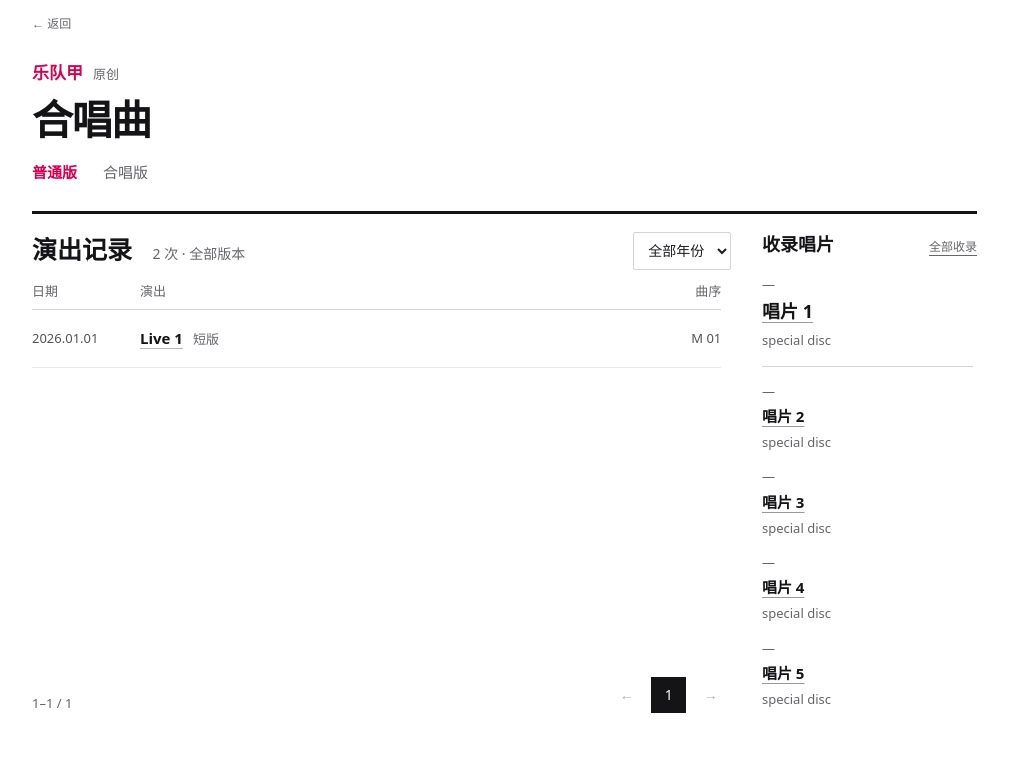
Test case: all releases dialog opens the selected album
The image size is (1024, 768).
Click the button "全部收录" at (953, 247), box [929,234,977,260]
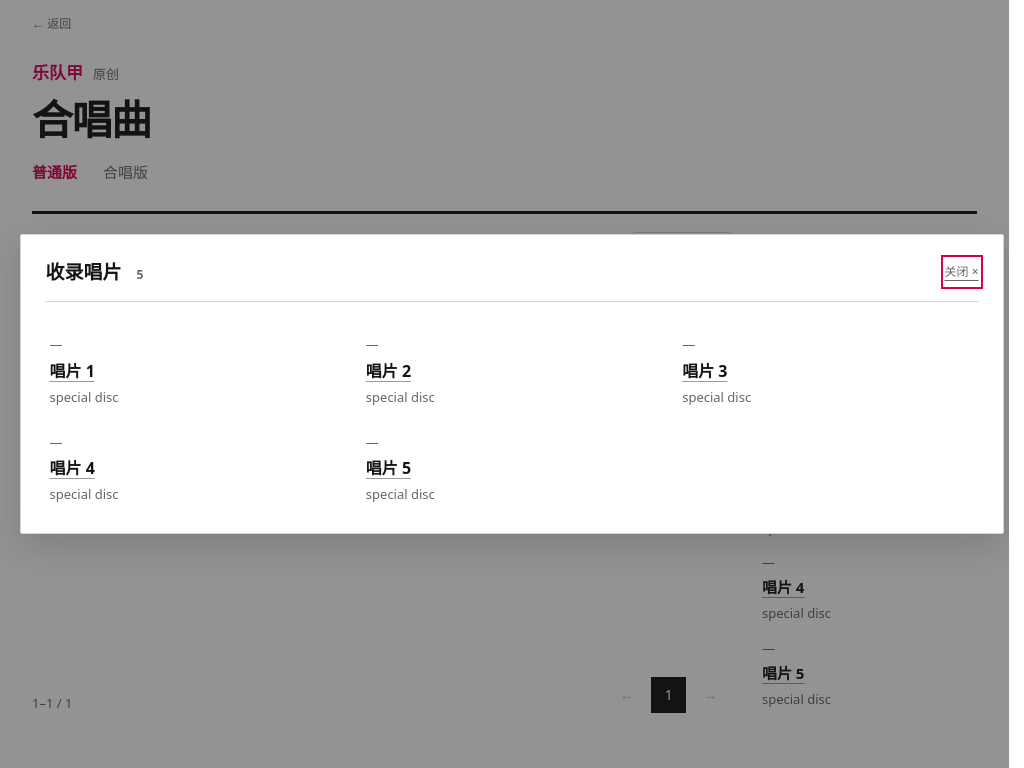
Check: the number of links named "查看唱片 " is 5
Click the link with aria-label "查看唱片 唱片 5" at (400, 468), box [366,432,435,503]
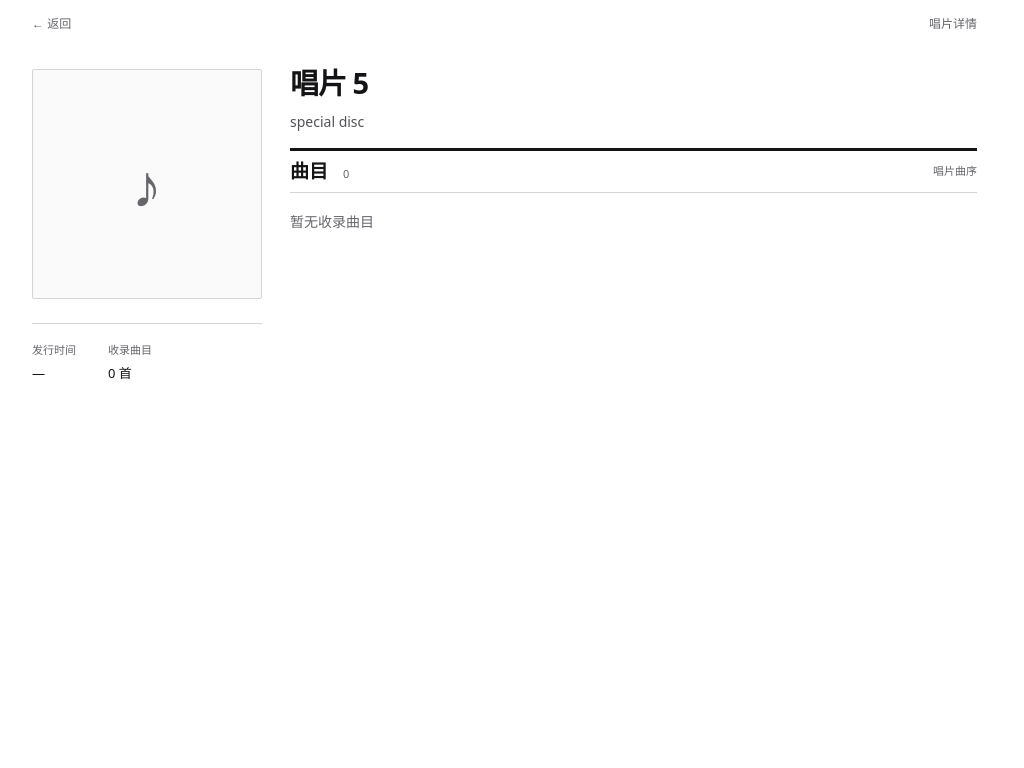
Check: the heading "唱片 5" is shown, box [290,63,368,102]
